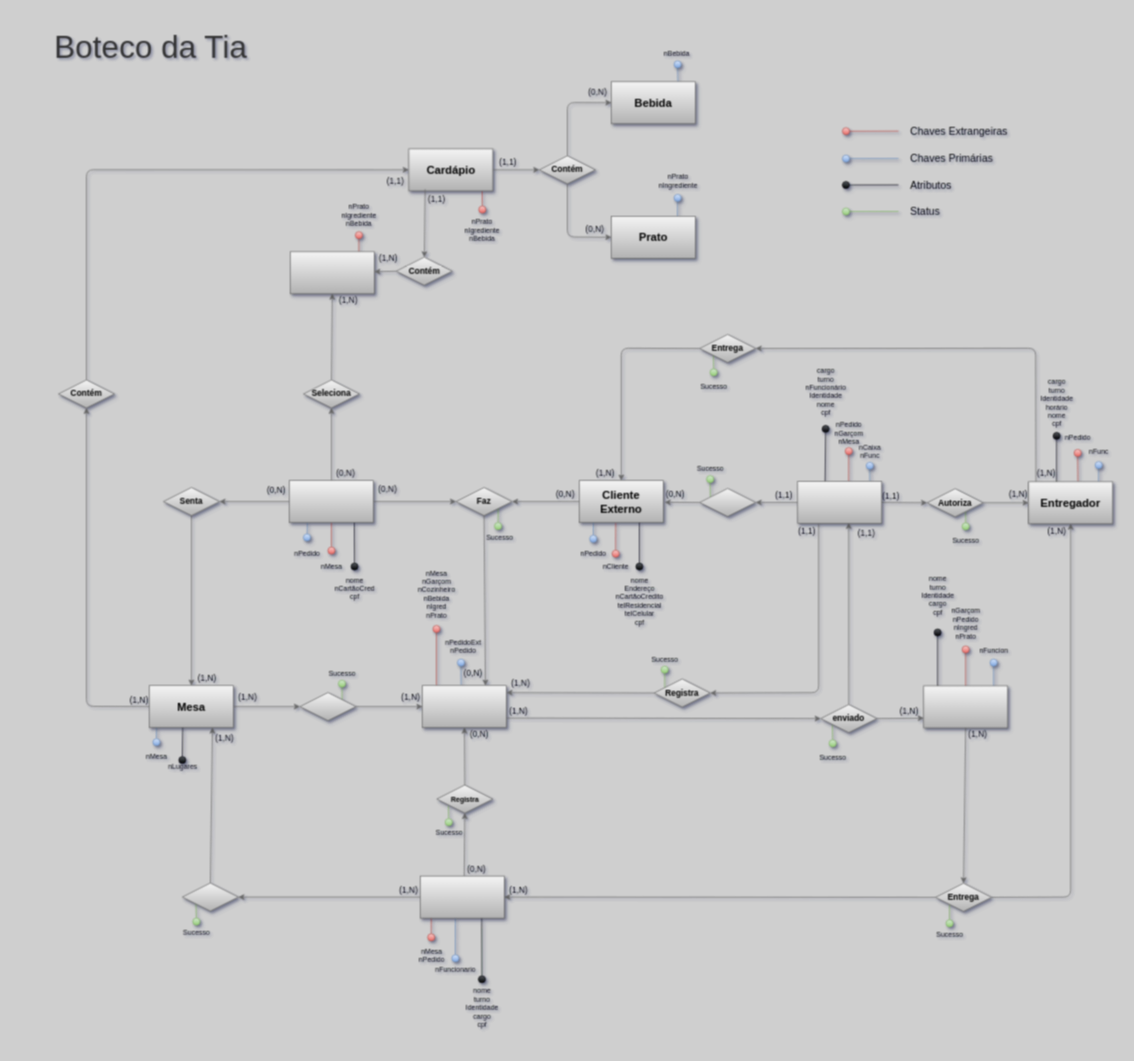
Some shapes in this 1134 by 1061 pixel diagram are drawn without their labels. Each missing label, with the centre of its shape:
"Caixa" belongs at (x=840, y=503).
"Cliente" belongs at (x=332, y=502).
"Cozinheiro" belongs at (x=966, y=707).
"Fideliza" belongs at (x=728, y=503).
"Garçom" belongs at (x=463, y=898).
"Item" belongs at (x=332, y=273).
"Pedido" belongs at (x=465, y=707).
"Possui" belongs at (x=328, y=707).
"Servem" belongs at (x=211, y=898).
